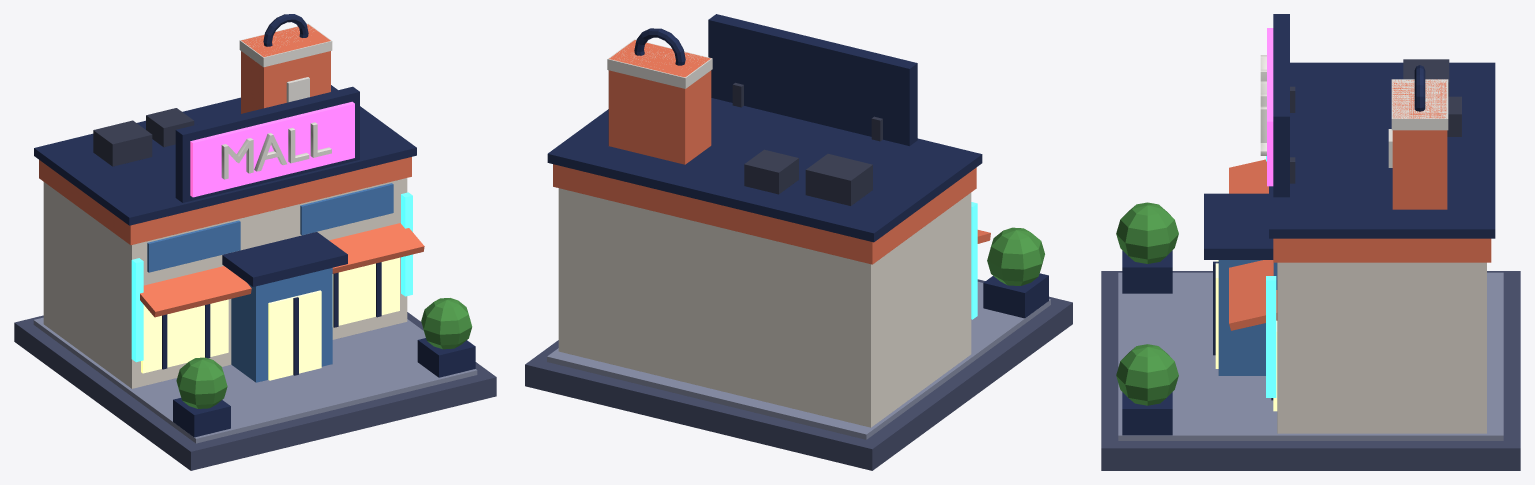
File: mall.glb
3 views of the same model, side by side, from view 1: azimuth 30°, elevation 25°; view 2: azimuth 150°, elevation 25°; view 3: azimuth 270°, elevation 25° (orthographic). The views are drawn at different scales.
Parts seen in each view (by area): view 1: Mall; view 2: Mall; view 3: Mall.
Boxes of the visible parts, x1,y1,x2,y2 form: Mall: (14, 14, 496, 470); Mall: (525, 14, 1072, 470); Mall: (1101, 14, 1520, 470).
Bounding box in the file's own units: 2 × 1.89 × 2.
